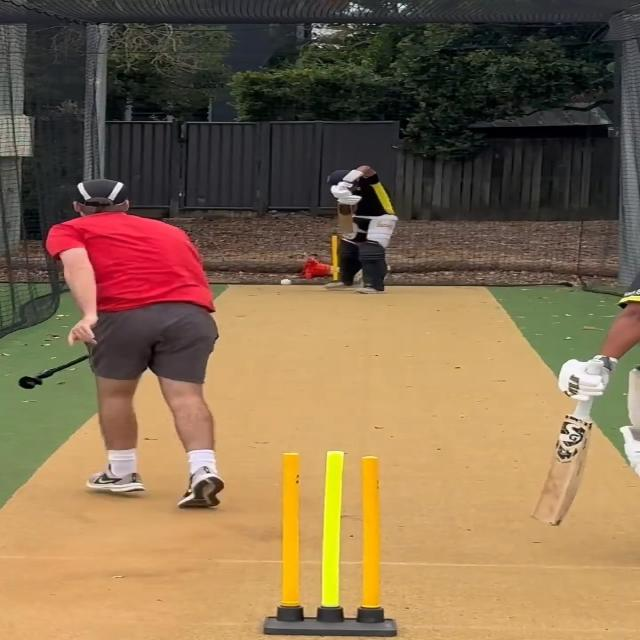ball: (279, 278, 293, 287)
stump: (262, 452, 398, 636)
